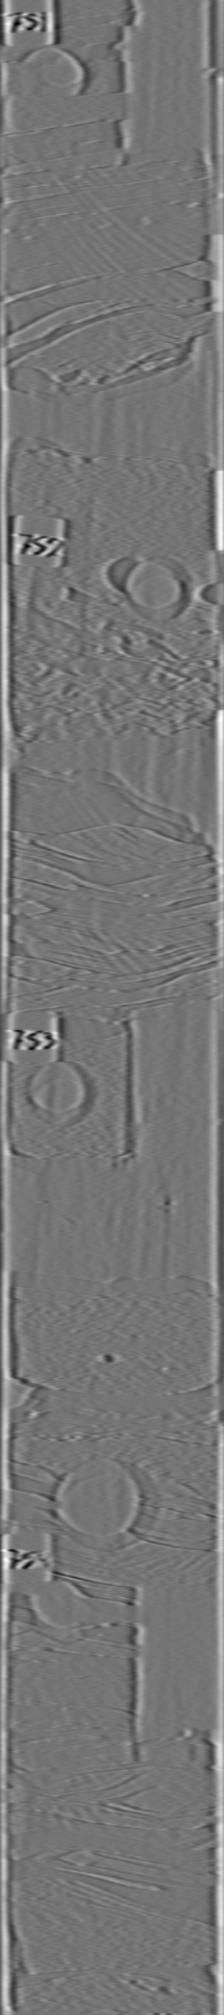hplug: (21, 1058, 102, 1130), (116, 553, 193, 625), (23, 1573, 89, 1647), (14, 42, 88, 98)
scal: (48, 1452, 163, 1556)
vplug: (112, 4, 203, 177), (121, 991, 210, 1158), (129, 1579, 210, 1762), (23, 483, 93, 668)
